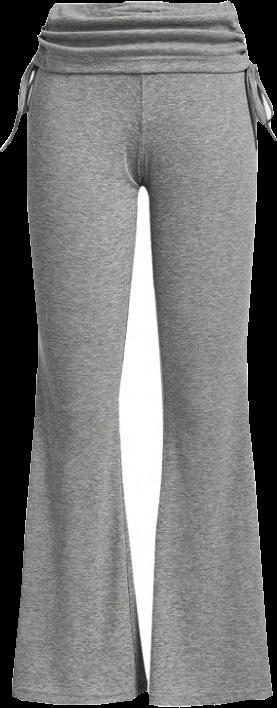Hemline: (27, 60, 249, 82), (13, 685, 150, 705), (147, 691, 275, 707)
Pantleg: (12, 2, 146, 704), (140, 1, 272, 705)
Waistline: (54, 0, 230, 12)
